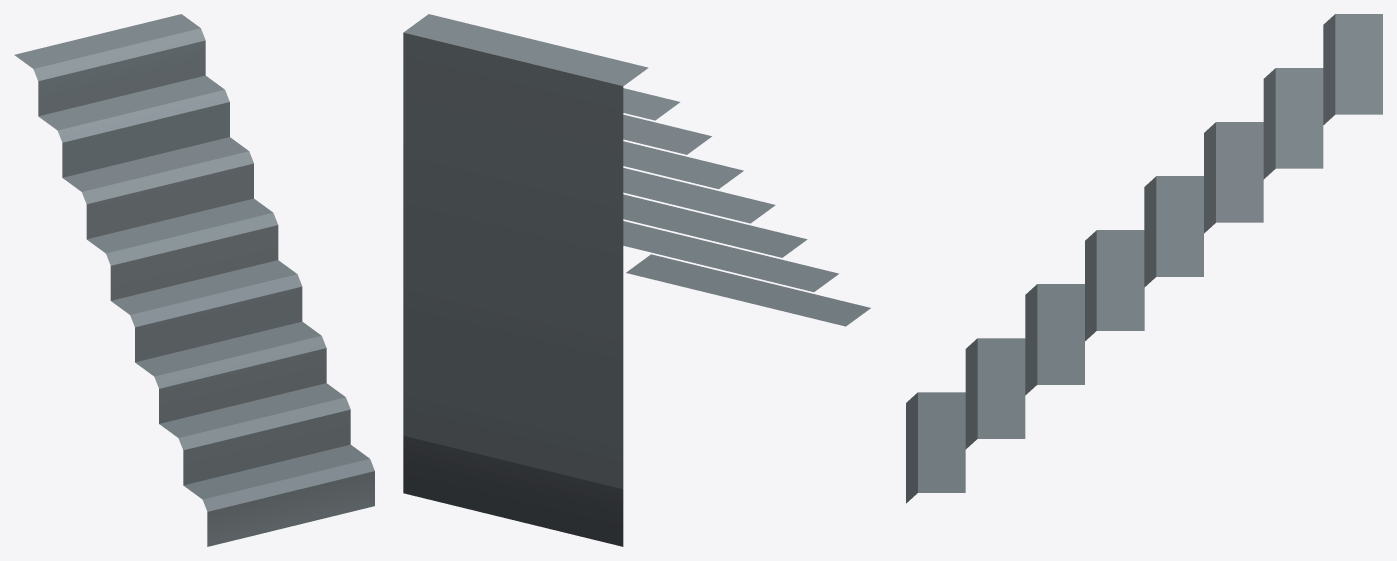
File: stairs_modular_center.glb
3 views of the same model, side by side, from view 1: azimuth 30°, elevation 25°; view 2: azimuth 150°, elevation 25°; view 3: azimuth 270°, elevation 25° (orthographic). The views are drawn at different scales.
Parts seen in each view (by area): view 1: stairs_modular_center; view 2: stairs_modular_center; view 3: stairs_modular_center.
Boxes of the visible parts, left/top/right/bottom form: stairs_modular_center: left=14, top=14, right=374, bottom=546; stairs_modular_center: left=403, top=14, right=870, bottom=546; stairs_modular_center: left=906, top=14, right=1382, bottom=503.
Size of the model in its own units: 2 by 4 by 4.
1 material, 1 textured.
